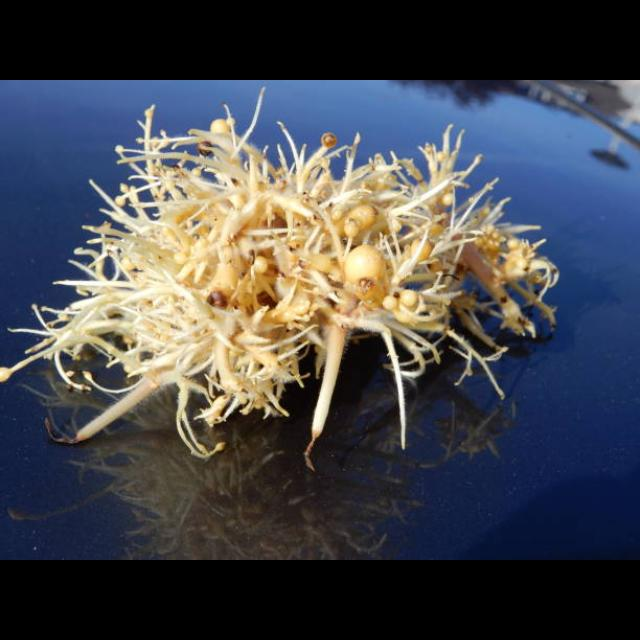Sprouted potato: (44, 121, 590, 458)
